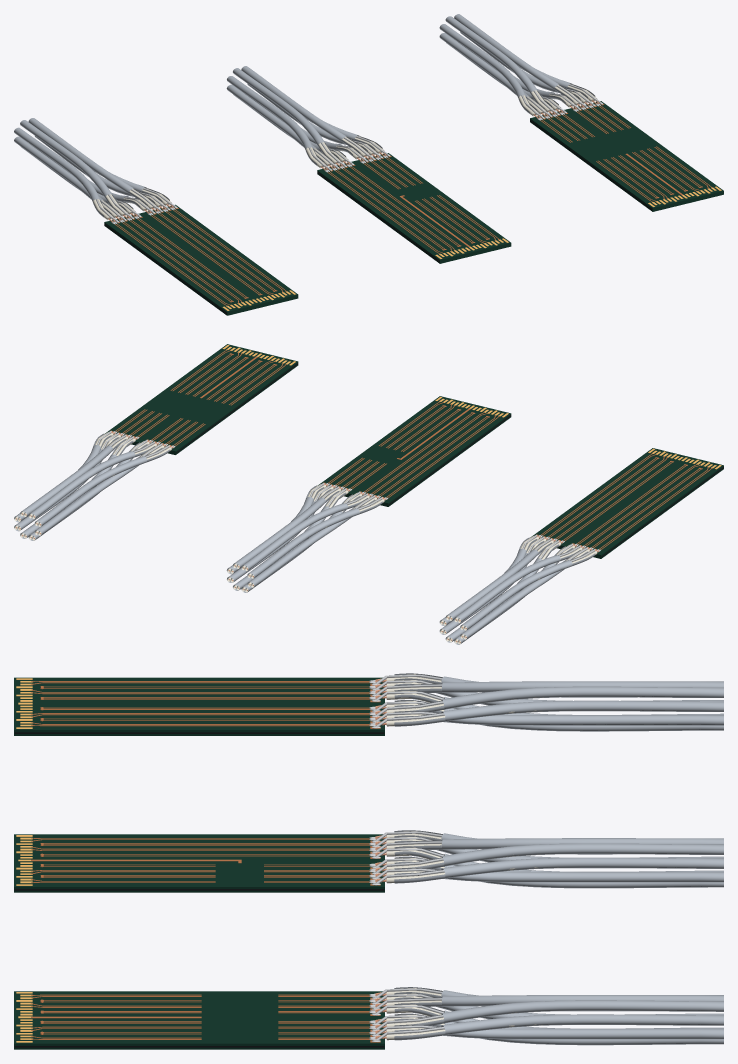
Rendered from copper-internals.glb.
The picture shows the model from 3 angles, top to bottom: view 1: azimuth 30°, elevation 25°; view 2: azimuth 150°, elevation 25°; view 3: azimuth 270°, elevation 25°; orthographic projection. The views are drawn at different scales.
Parts seen in each view (by area): view 1: REFERENCE_copper-internals_0000, REFERENCE_copper-internals_0008, REFERENCE_copper-internals_0003, REFERENCE_copper-internals_0006, REFERENCE_copper-internals_0007, REFERENCE_copper-internals_0002, REFERENCE_copper-internals_0001; view 2: REFERENCE_copper-internals_0000, REFERENCE_copper-internals_0008, REFERENCE_copper-internals_0003, REFERENCE_copper-internals_0006, REFERENCE_copper-internals_0007, REFERENCE_copper-internals_0002, REFERENCE_copper-internals_0001; view 3: REFERENCE_copper-internals_0000, REFERENCE_copper-internals_0008, REFERENCE_copper-internals_0003, REFERENCE_copper-internals_0007, REFERENCE_copper-internals_0006, REFERENCE_copper-internals_0001, REFERENCE_copper-internals_0002, REFERENCE_copper-internals_0005, REFERENCE_copper-internals_0004.
Boxes of the visible parts, x1,y1,x2,y2 form: REFERENCE_copper-internals_0000: (104, 101, 723, 315); REFERENCE_copper-internals_0008: (14, 14, 595, 217); REFERENCE_copper-internals_0003: (115, 103, 712, 306); REFERENCE_copper-internals_0006: (82, 80, 596, 220); REFERENCE_copper-internals_0007: (95, 84, 601, 221); REFERENCE_copper-internals_0002: (222, 186, 721, 310); REFERENCE_copper-internals_0001: (104, 120, 652, 313); REFERENCE_copper-internals_0000: (105, 344, 723, 558); REFERENCE_copper-internals_0008: (14, 433, 595, 644); REFERENCE_copper-internals_0003: (111, 349, 712, 549); REFERENCE_copper-internals_0006: (14, 432, 597, 644); REFERENCE_copper-internals_0007: (17, 431, 594, 640); REFERENCE_copper-internals_0002: (222, 345, 721, 469); REFERENCE_copper-internals_0001: (176, 363, 723, 557); REFERENCE_copper-internals_0000: (14, 677, 384, 1049); REFERENCE_copper-internals_0008: (394, 673, 723, 1045); REFERENCE_copper-internals_0003: (31, 681, 380, 1042); REFERENCE_copper-internals_0007: (375, 674, 444, 1040); REFERENCE_copper-internals_0006: (386, 674, 570, 1040); REFERENCE_copper-internals_0001: (14, 732, 384, 1047); REFERENCE_copper-internals_0002: (16, 678, 32, 1042); REFERENCE_copper-internals_0005: (369, 680, 380, 1041); REFERENCE_copper-internals_0004: (375, 678, 386, 1038).
Size of the model in its own units: 0.1075 by 0.00589 by 0.088.
